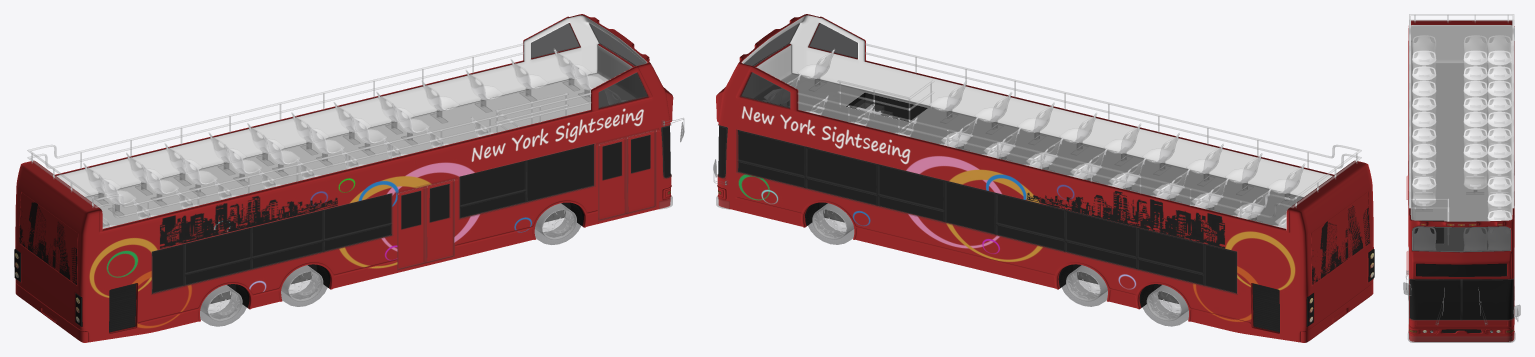
Rendered from Guagua2pisos.glb.
The picture shows the model from 3 angles, left to right: view 1: azimuth 30°, elevation 25°; view 2: azimuth 150°, elevation 25°; view 3: azimuth 270°, elevation 25°; orthographic projection. The views are drawn at different scales.
Parts seen in each view (by area): view 1: 13936_Tourist_Bus_with_Open_Top_v2_L1; view 2: 13936_Tourist_Bus_with_Open_Top_v2_L1; view 3: 13936_Tourist_Bus_with_Open_Top_v2_L1.
Part boxes in pixels (left/top/right/bottom): 13936_Tourist_Bus_with_Open_Top_v2_L1: left=14, top=14, right=684, bottom=342; 13936_Tourist_Bus_with_Open_Top_v2_L1: left=713, top=14, right=1374, bottom=342; 13936_Tourist_Bus_with_Open_Top_v2_L1: left=1403, top=14, right=1520, bottom=342.
Size of the model in its own units: 333 by 84.44 by 73.4.
8 materials, 2 textured.
